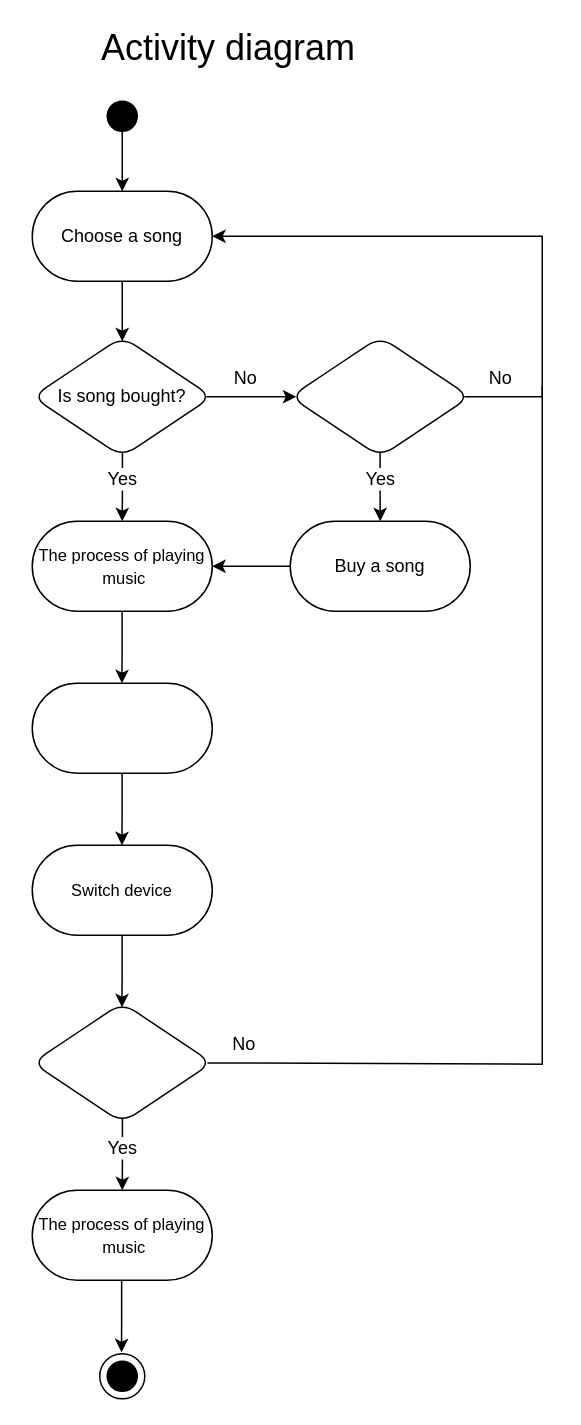
Image size: 581x1425. Some labels were removed from this diagram. The box of each missing label's shape, as (x1, y1, x2, y2) in pixels:
Is information saved?: (31, 1001, 212, 1123)
Is song available at app?: (289, 335, 470, 457)
Stop music: (31, 682, 212, 773)
